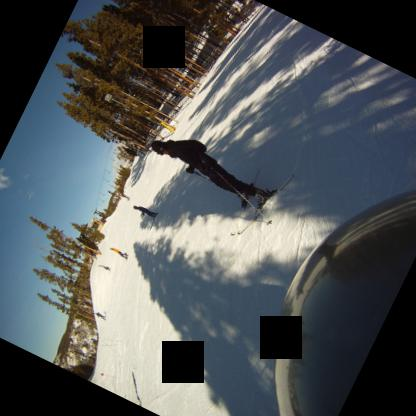backpack: (176, 139, 207, 152)
